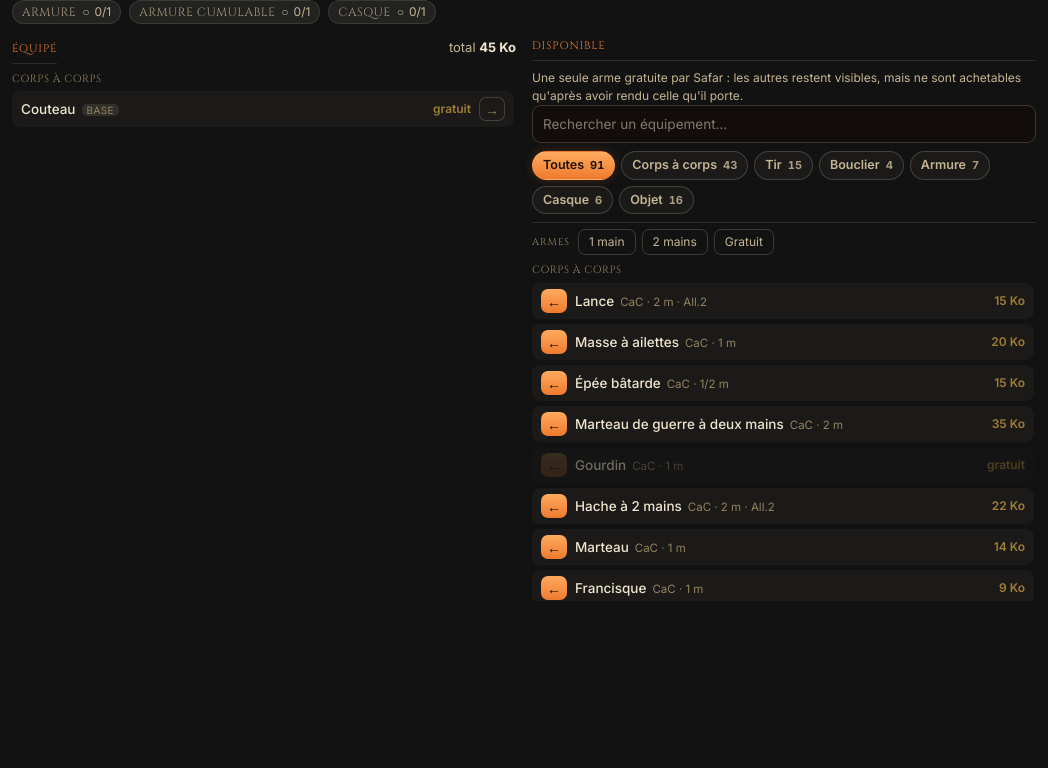
Test: EquipPanel (vue) › filtre la liste disponible par la recherche
Type "zzzintrouvable" into the field with placeholder "Rechercher un équipement…".
click(784, 124); type("zzzintrouvable")  # box top-left (532, 104), bottom-right (1036, 143)
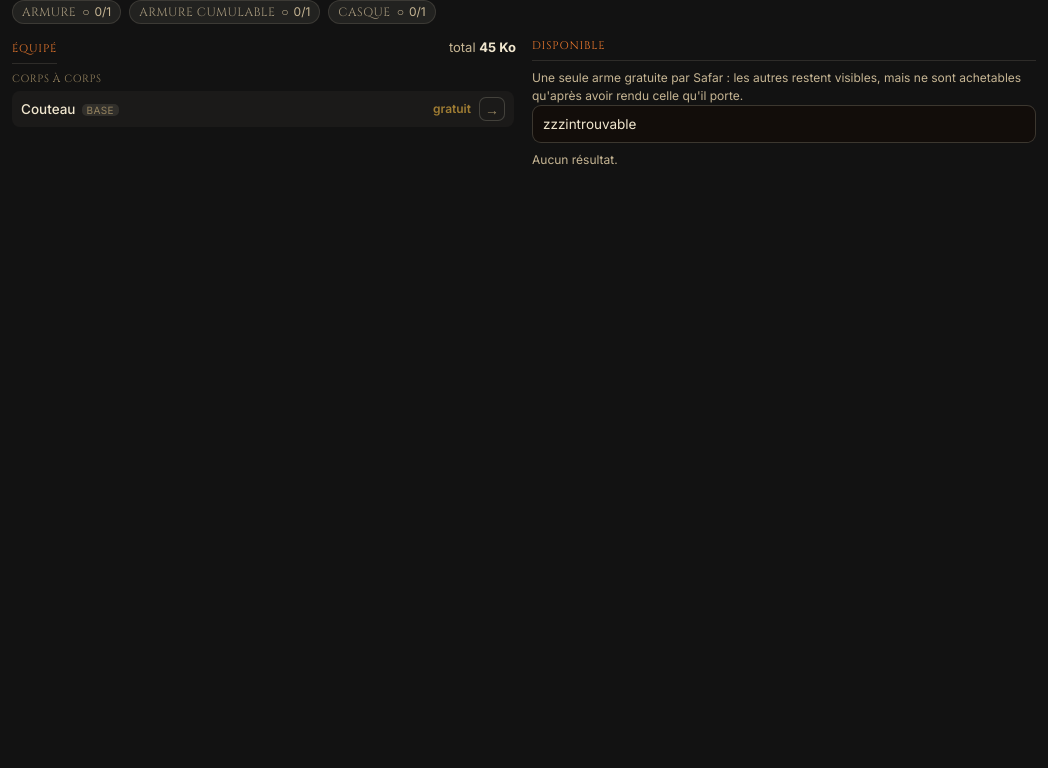
Check: the text "Aucun résultat." is shown, box top-left (532, 152), bottom-right (618, 167)
